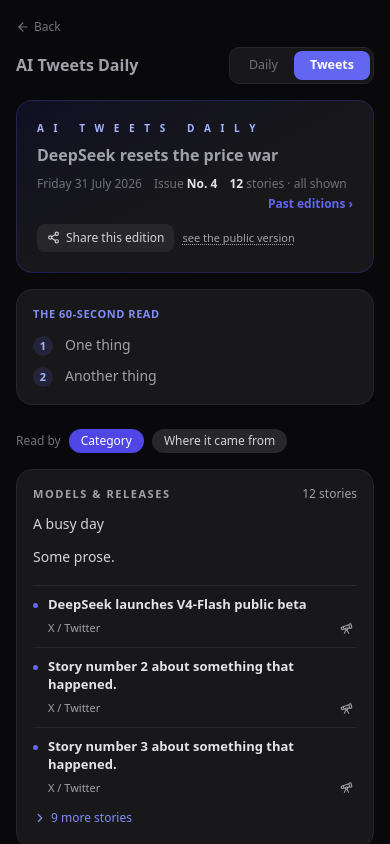
the archive (BEA-1260) › a genuinely empty archive says the friendly thing instead
Expected: the heading "DeepSeek resets the price war" is shown, [37,144,278,166]
Click the button "Past editions ›": [310, 204] box [268,196,353,212]
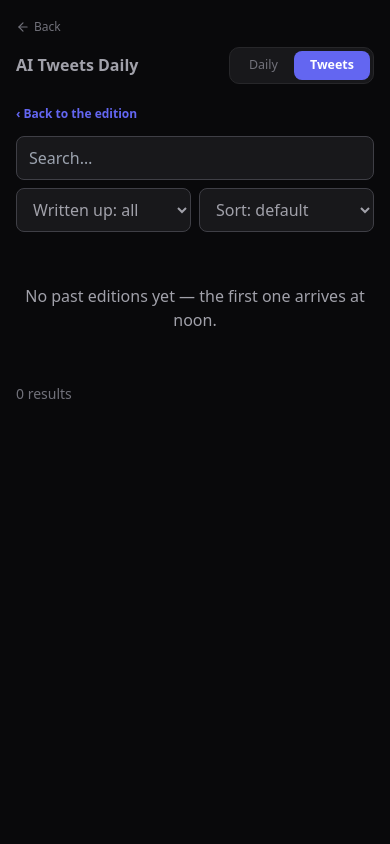
Result: the text "No past editions yet — the first one arrives at noon." is shown at [25,285,365,331]
